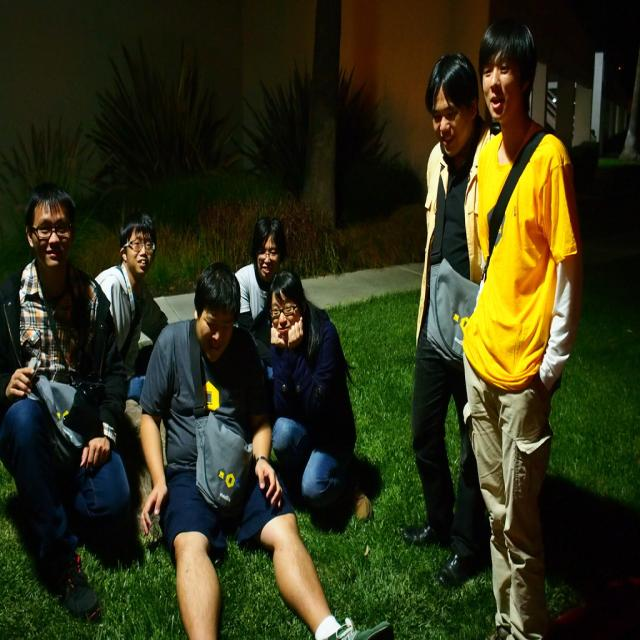no_helmet: (472, 112, 560, 174), (412, 126, 474, 191), (260, 266, 314, 323), (24, 218, 86, 266), (116, 233, 164, 287), (192, 276, 237, 324)
